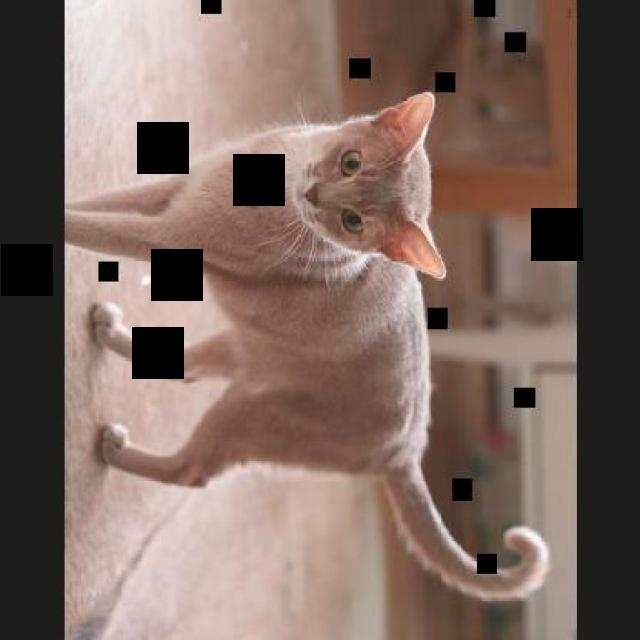unauthorized: (63, 89, 551, 602)
